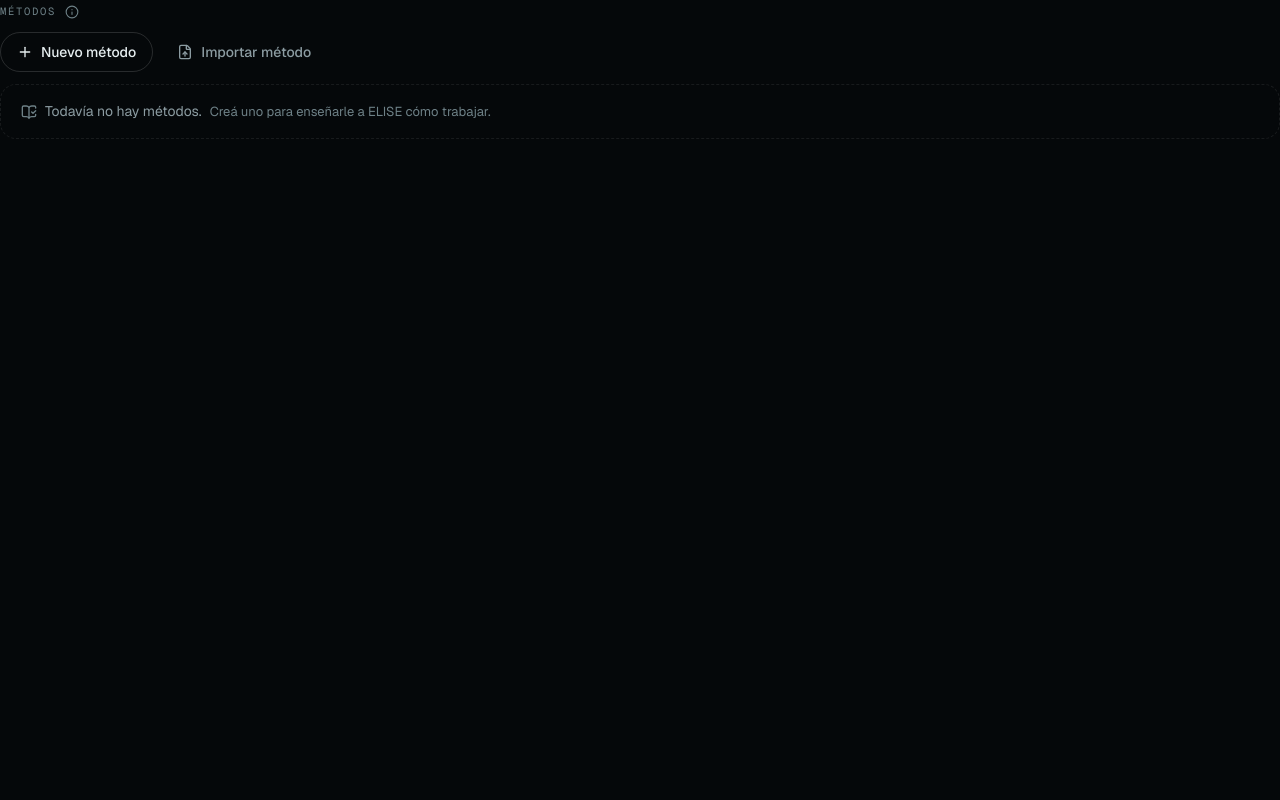
Test case: Methods in Knowledge › a new Method is saved where it was opened ({"id":"s","name":"Redes","parentId":"f","path":"Firbot Marketing › Redes"}.name), with no scope selector
Click the button "Nuevo método". click: (77, 52)
box: [0,32,153,72]
(page scrolled)
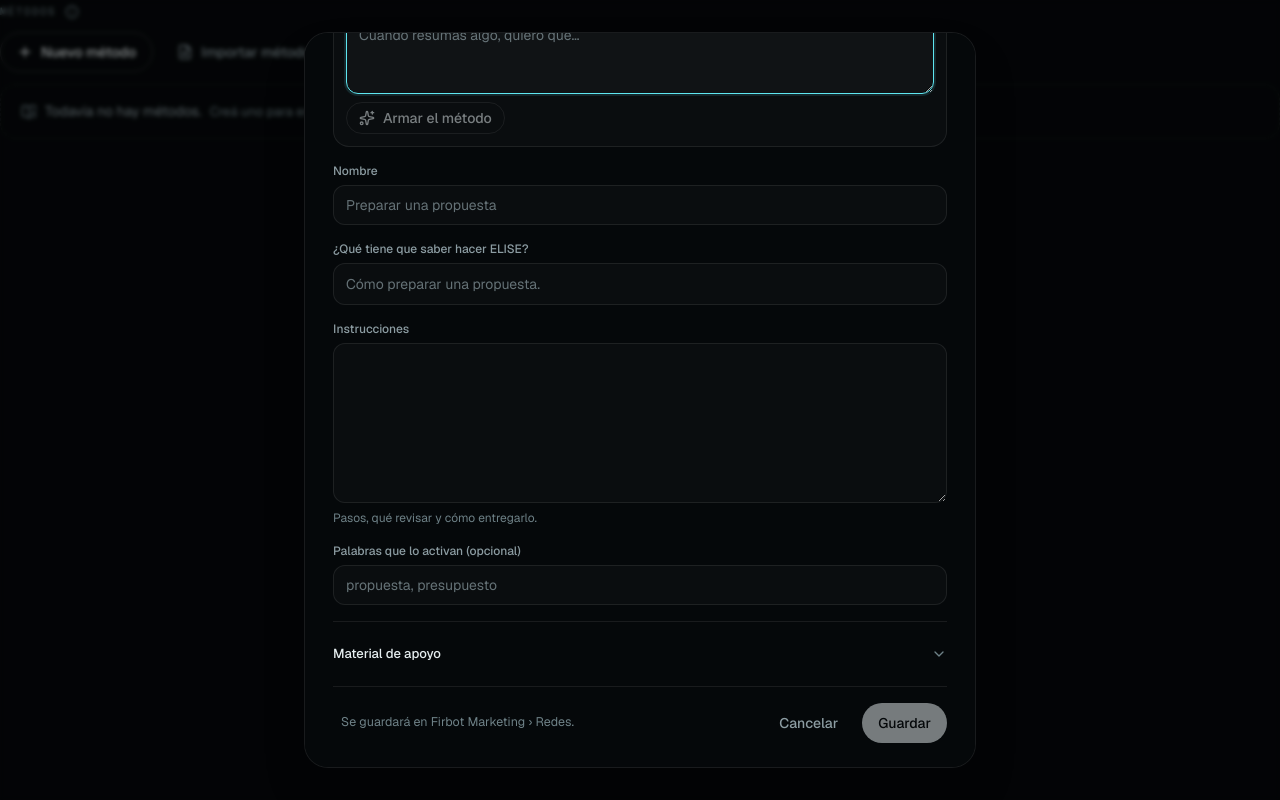
Check: the text "Se guardará en Firbot Marketing › Redes." is shown, box [341,713,574,732]
